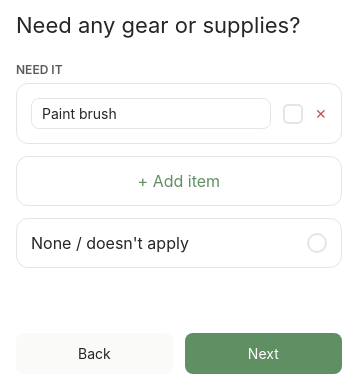
Test case: EnrichmentCard › renders a checkbox per supply item, sorting Need it above Have it and re-sorting on toggle
The width and height of the screenshot is (359, 391).
Expected: the number of fields with placeholder "Item name" is 1, x1=31 y1=98 x2=271 y2=129
Expected: the text "Need it" is shown, x1=16 y1=62 x2=63 y2=77
Click the checkbox: (293, 114) x1=283 y1=104 x2=303 y2=124
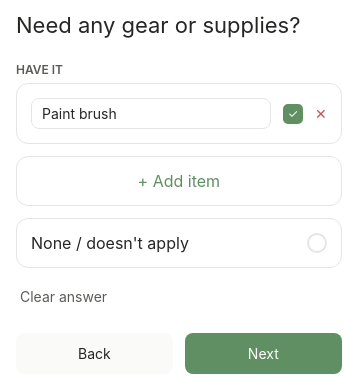
Expected: the text "Have it" is shown, x1=16 y1=62 x2=63 y2=77
